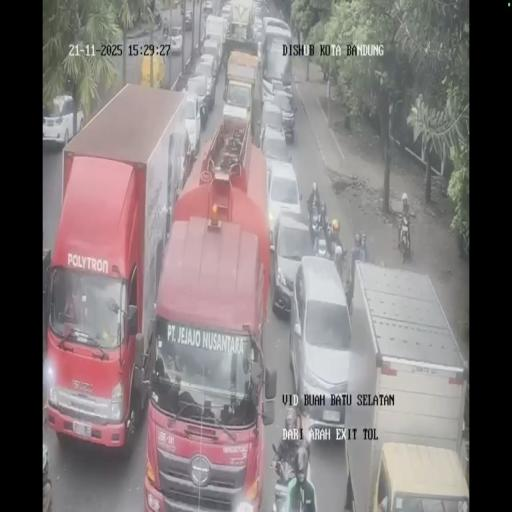car: (270, 207, 316, 316), (258, 100, 287, 154), (184, 74, 210, 130), (201, 39, 220, 78), (270, 79, 293, 106), (170, 25, 182, 54), (252, 18, 264, 46), (220, 3, 232, 27), (252, 0, 262, 20), (183, 10, 192, 30), (203, 0, 213, 16)
motorcycle: (397, 211, 412, 264), (330, 240, 347, 280), (310, 208, 324, 252)
truck: (46, 80, 196, 452), (336, 262, 468, 510), (261, 18, 292, 82), (140, 53, 165, 89)
